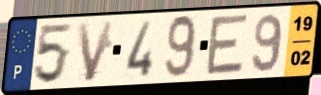4: (123, 19, 155, 79)
5: (33, 22, 76, 85)
9: (162, 13, 198, 82), (250, 11, 285, 74)
E: (203, 12, 251, 78)
V: (75, 18, 117, 84)
